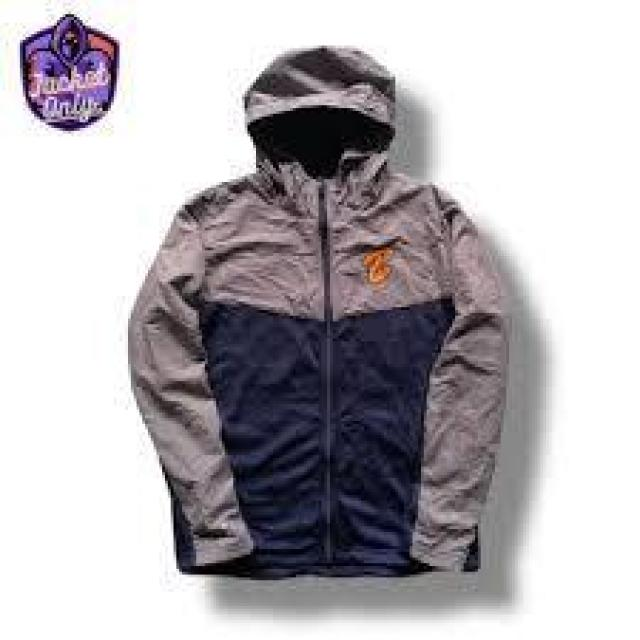jacket: (120, 41, 524, 593)
